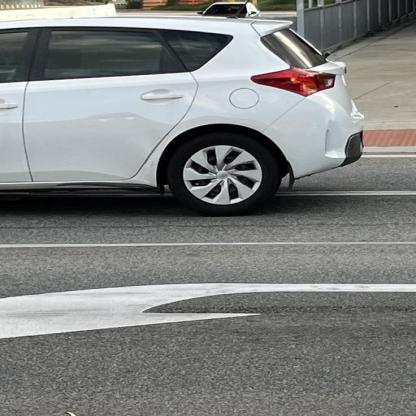Tire: (165, 132, 281, 216)
